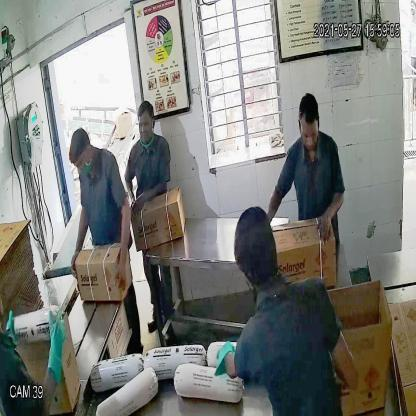no_goggles: (295, 123, 324, 147)
